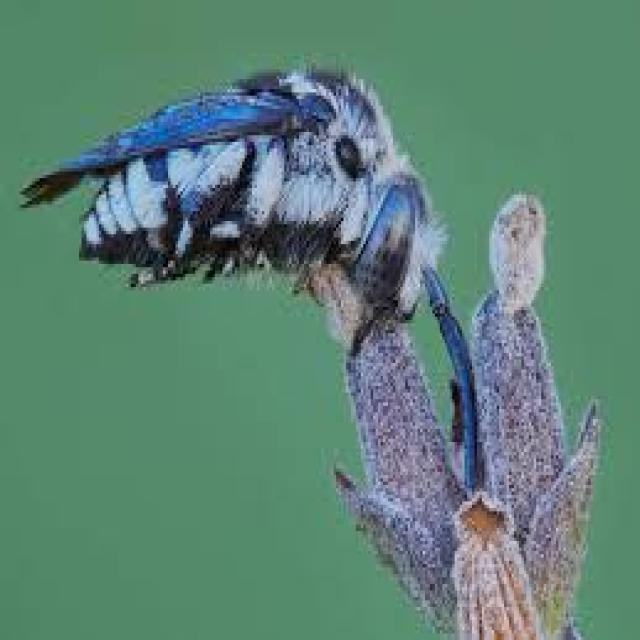Thyreus: (26, 46, 510, 491)
